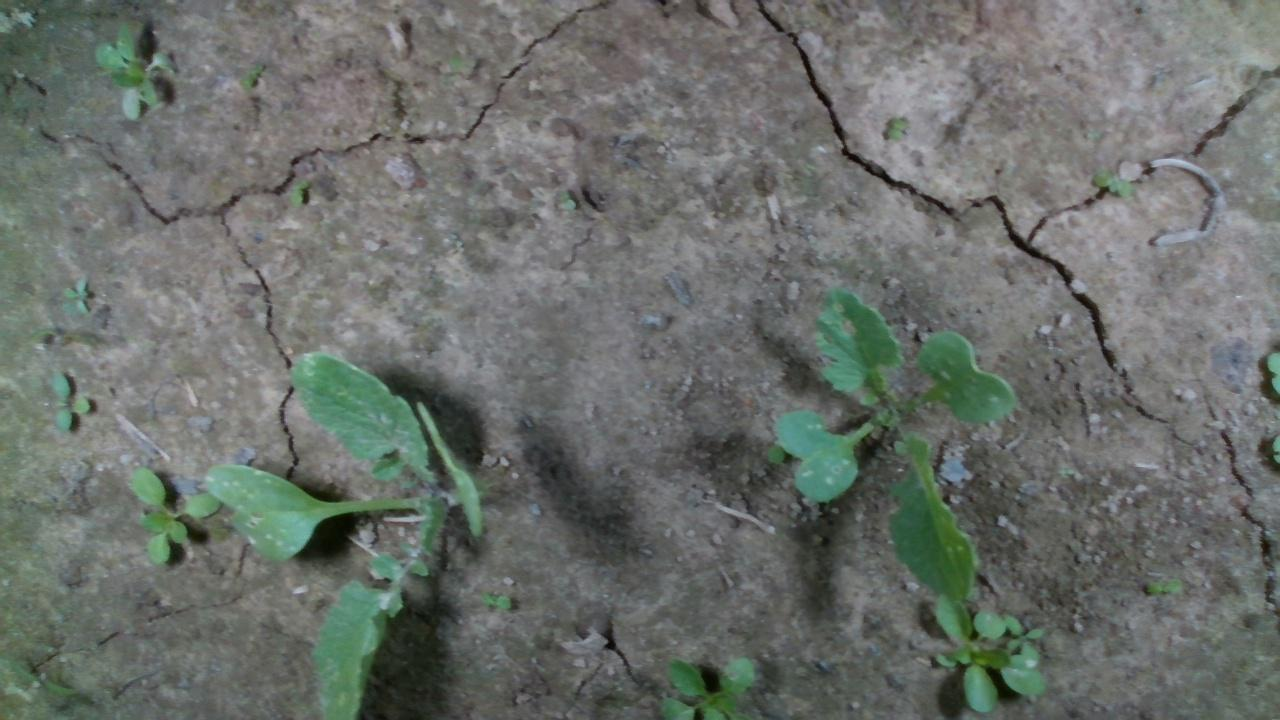weed: (48, 373, 90, 430), (1092, 167, 1132, 198), (61, 273, 90, 315), (1142, 575, 1184, 594), (478, 590, 511, 610)
